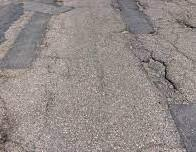alligator-crack: (131, 0, 196, 58)
pothole: (141, 52, 180, 98), (178, 17, 194, 33), (134, 0, 147, 12)
